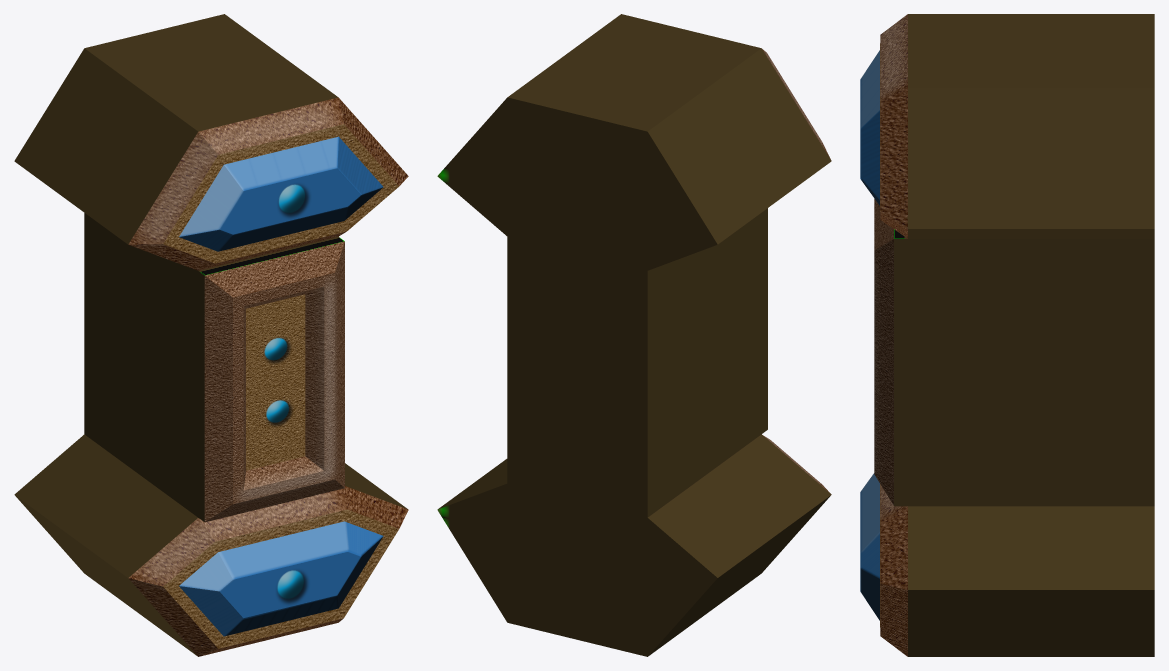
File: ibeam.FBX
3 renders of one model, left to right at view 1: azimuth 30°, elevation 25°; view 2: azimuth 150°, elevation 25°; view 3: azimuth 270°, elevation 25°, orthographic. The views are drawn at different scales.
Visible parts, largest first — view 1: ibeam; view 2: ibeam; view 3: ibeam.
Part boxes in pixels (x1,y1,x2,y2): ibeam: (14,14,408,656); ibeam: (437,14,831,656); ibeam: (860,14,1154,656).
Size of the model in its own units: 55.32 by 98.99 by 46.41.
